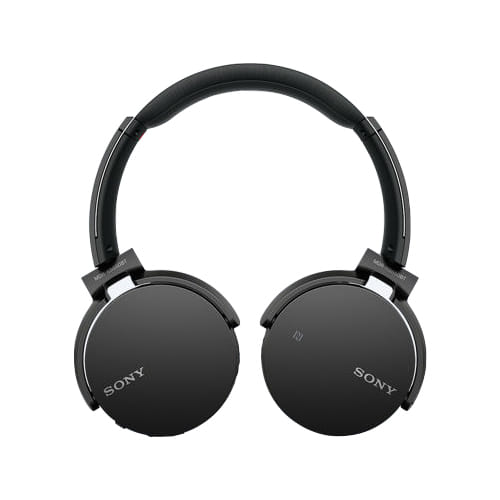Headphone: (69, 58, 428, 448)
